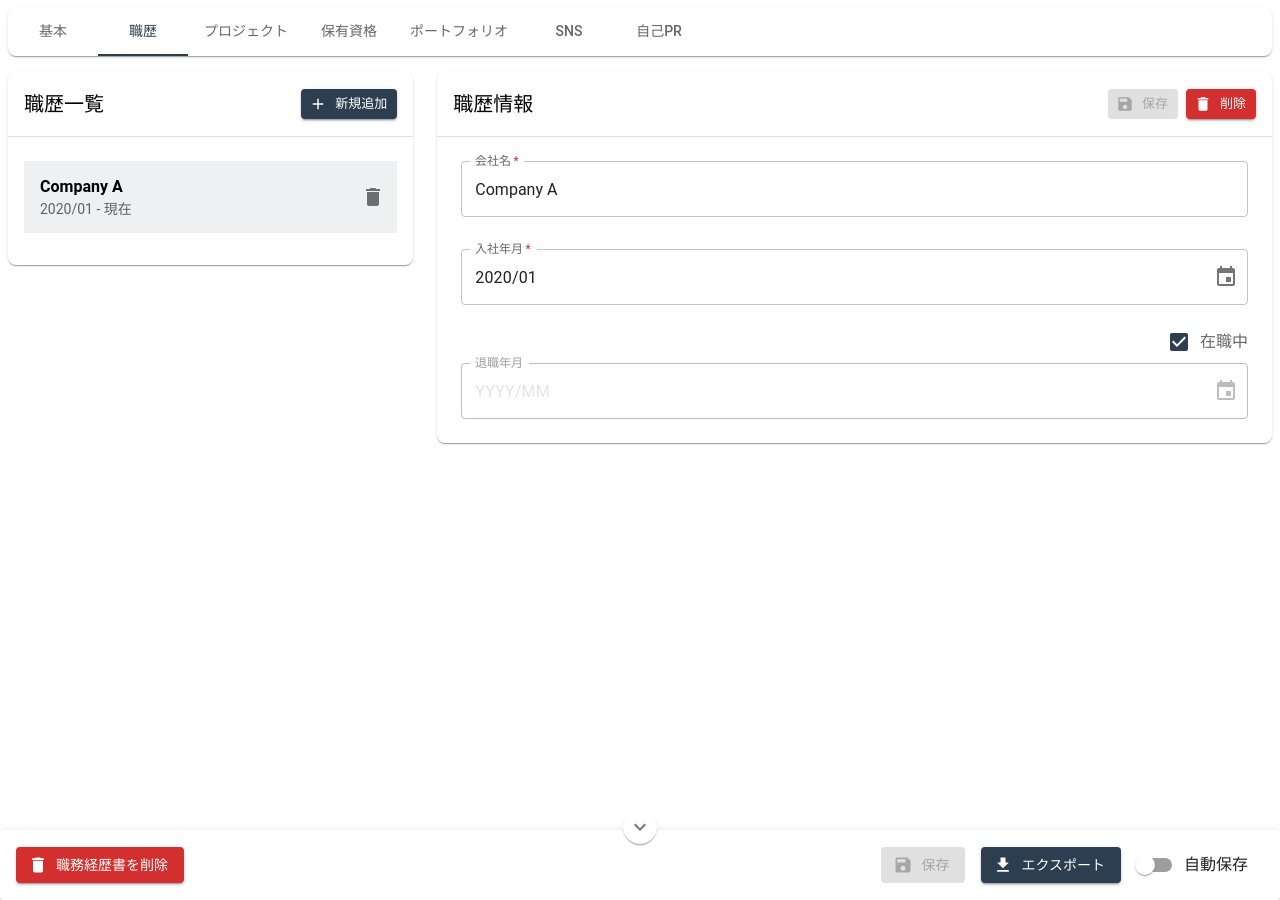
it: ResumeContainer › 職務経歴書が見つからないエラー › 職歴 の削除で見つからなかったときは、見つからない画面に切り替えること
Expected: the tab "基本" is shown, [8,8,98,56]
Step 1. Click the button with aria-label "職歴情報を削除" → (1221, 104), box [1186,89,1256,119]
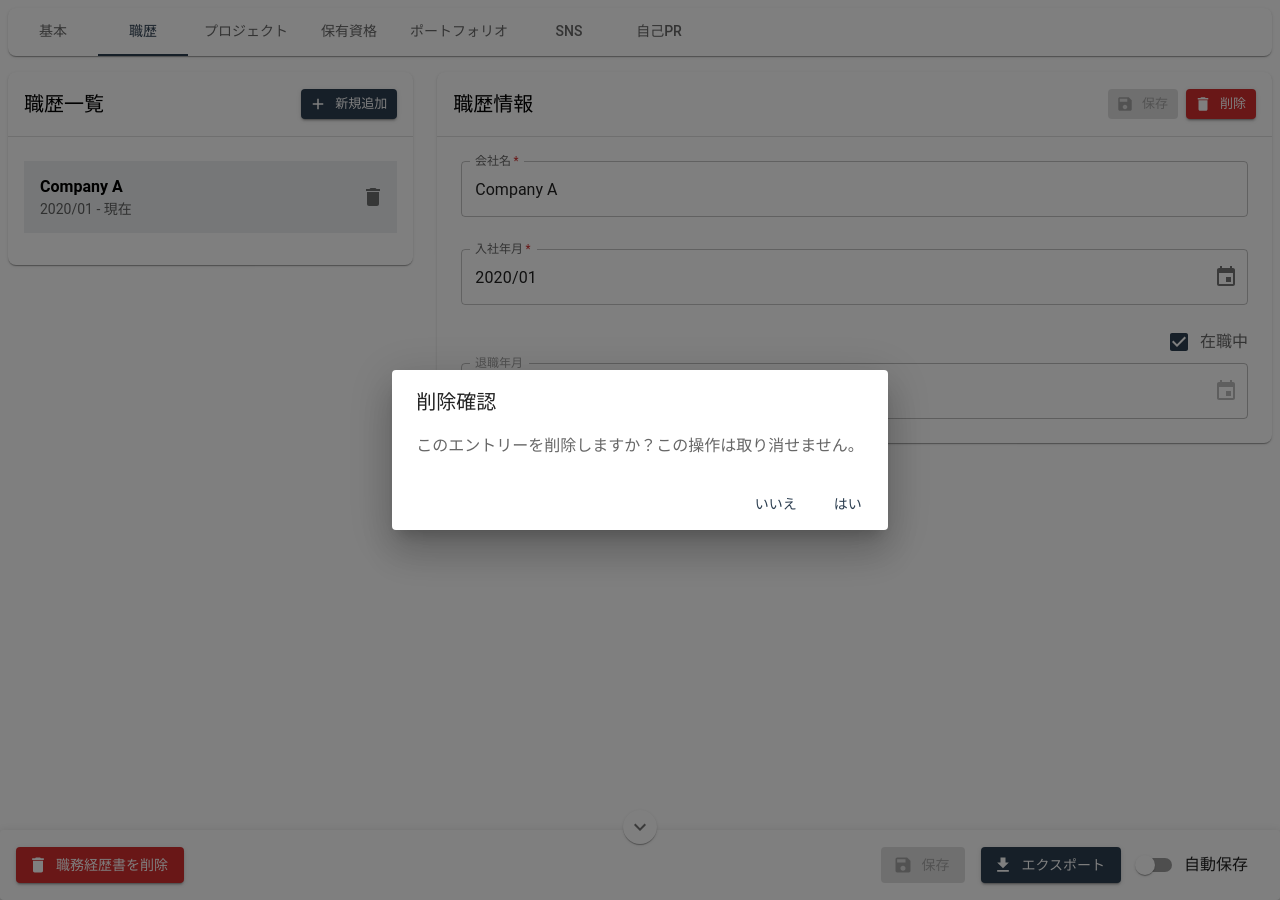
Step 2. Click the button "はい" → (848, 504), box [816,486,880,522]
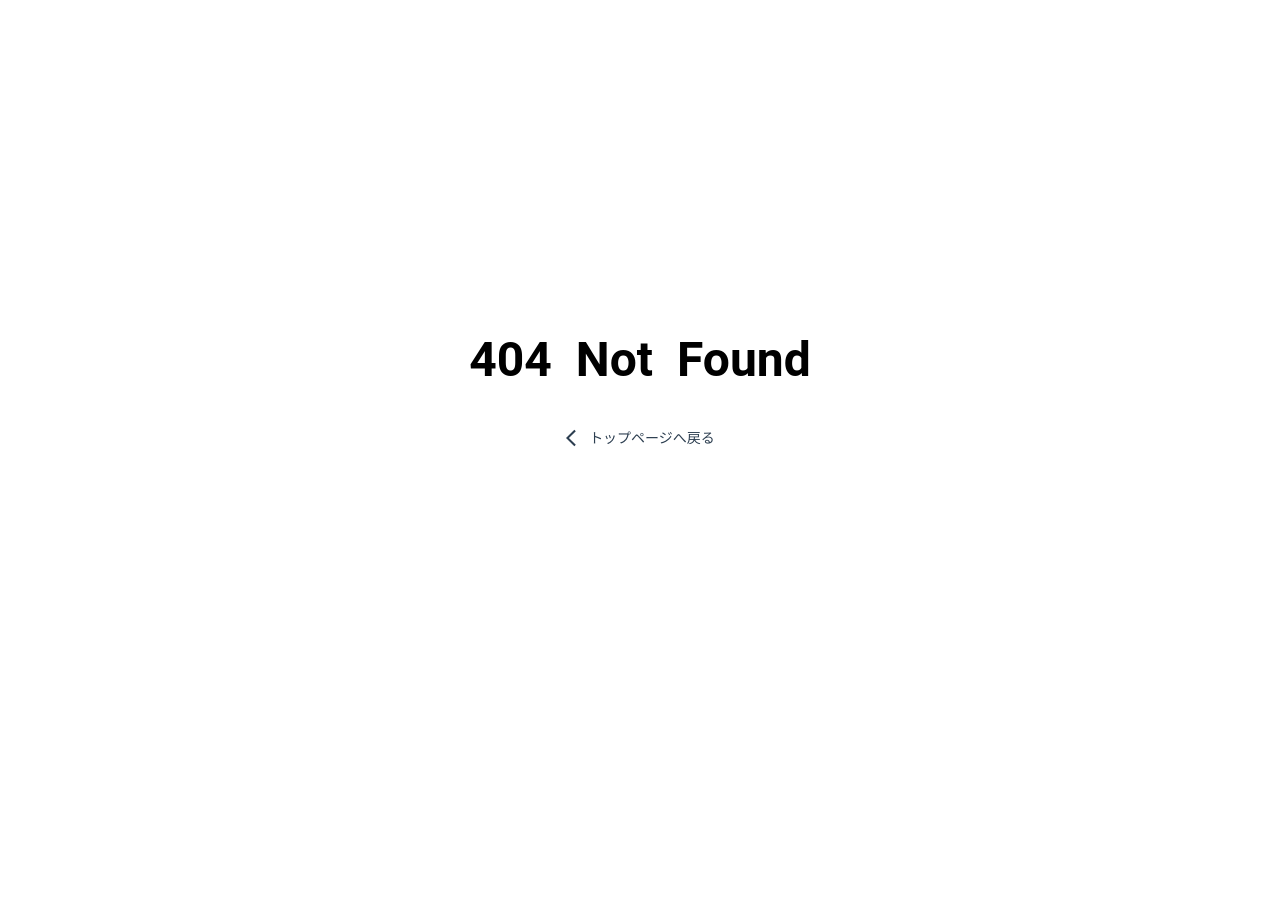
Now the heading "404 Not Found" is shown, box [469,332,811,388]
